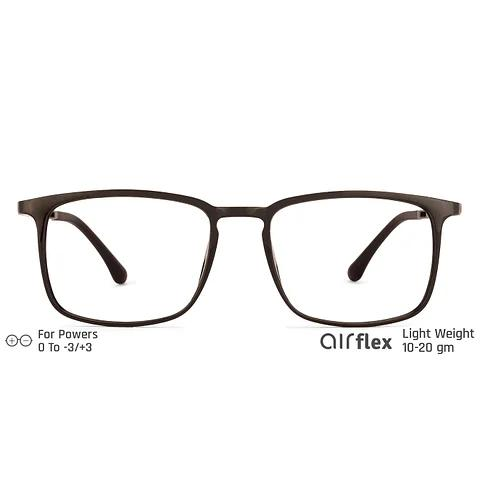spectacles: (9, 176, 480, 335)
